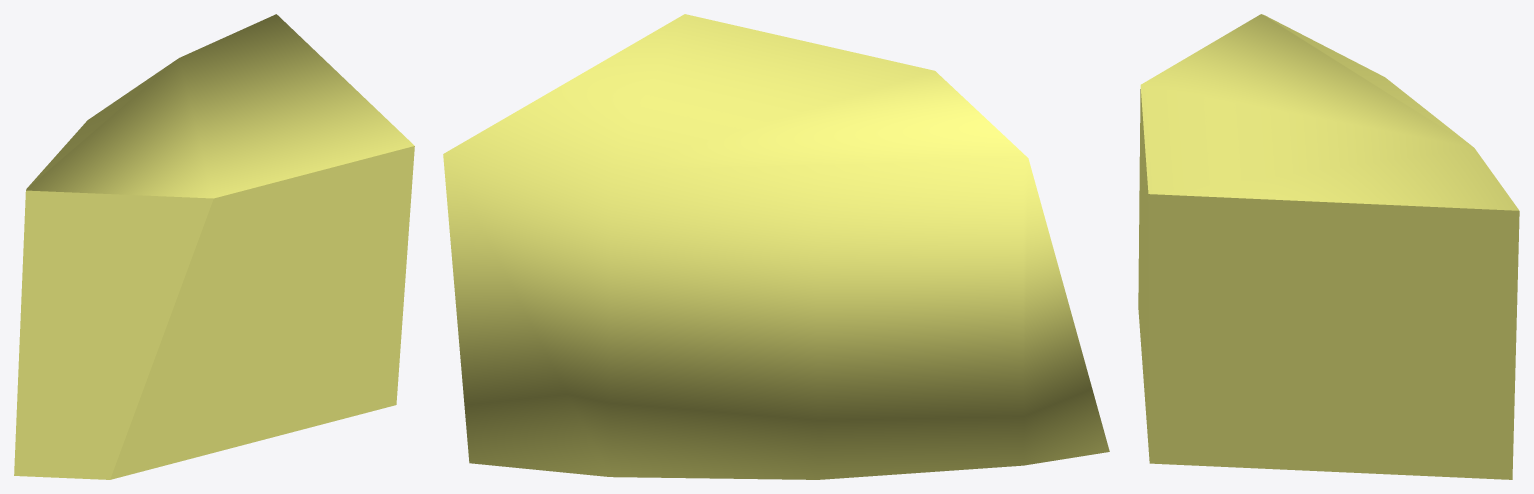
File: breakableCenter_cell_017.fbx
3 renders of one model, left to right at view 1: azimuth 30°, elevation 25°; view 2: azimuth 150°, elevation 25°; view 3: azimuth 270°, elevation 25°, orthographic. The views are drawn at different scales.
Parts seen in each view (by area): view 1: breakableCenter_cell.017; view 2: breakableCenter_cell.017; view 3: breakableCenter_cell.017.
Boxes of the visible parts, x1,y1,x2,y2 form: breakableCenter_cell.017: [14, 14, 414, 479]; breakableCenter_cell.017: [443, 14, 1109, 479]; breakableCenter_cell.017: [1138, 14, 1519, 479].
Size of the model in its own units: 23.7 by 14.14 by 17.52.
